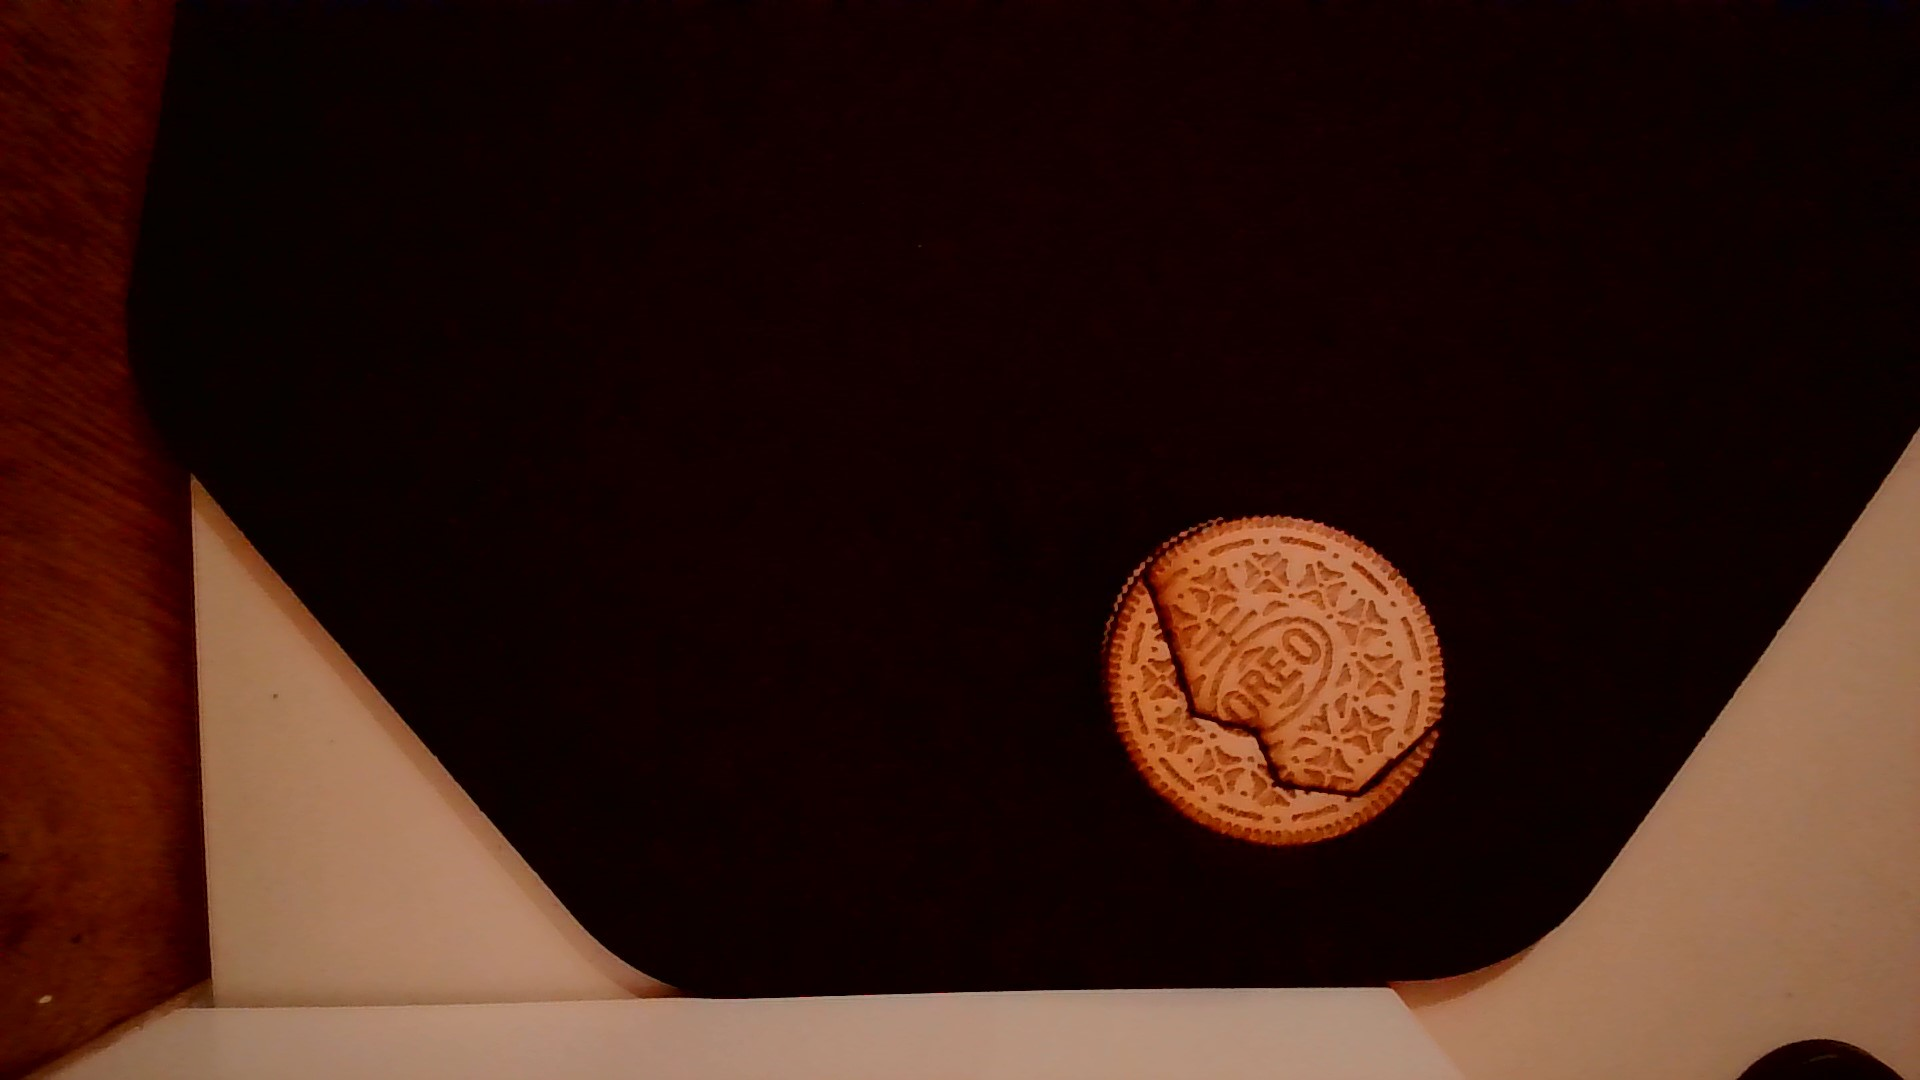Fissure: (1127, 556, 1453, 802)
Oréo: (1087, 502, 1453, 853)
